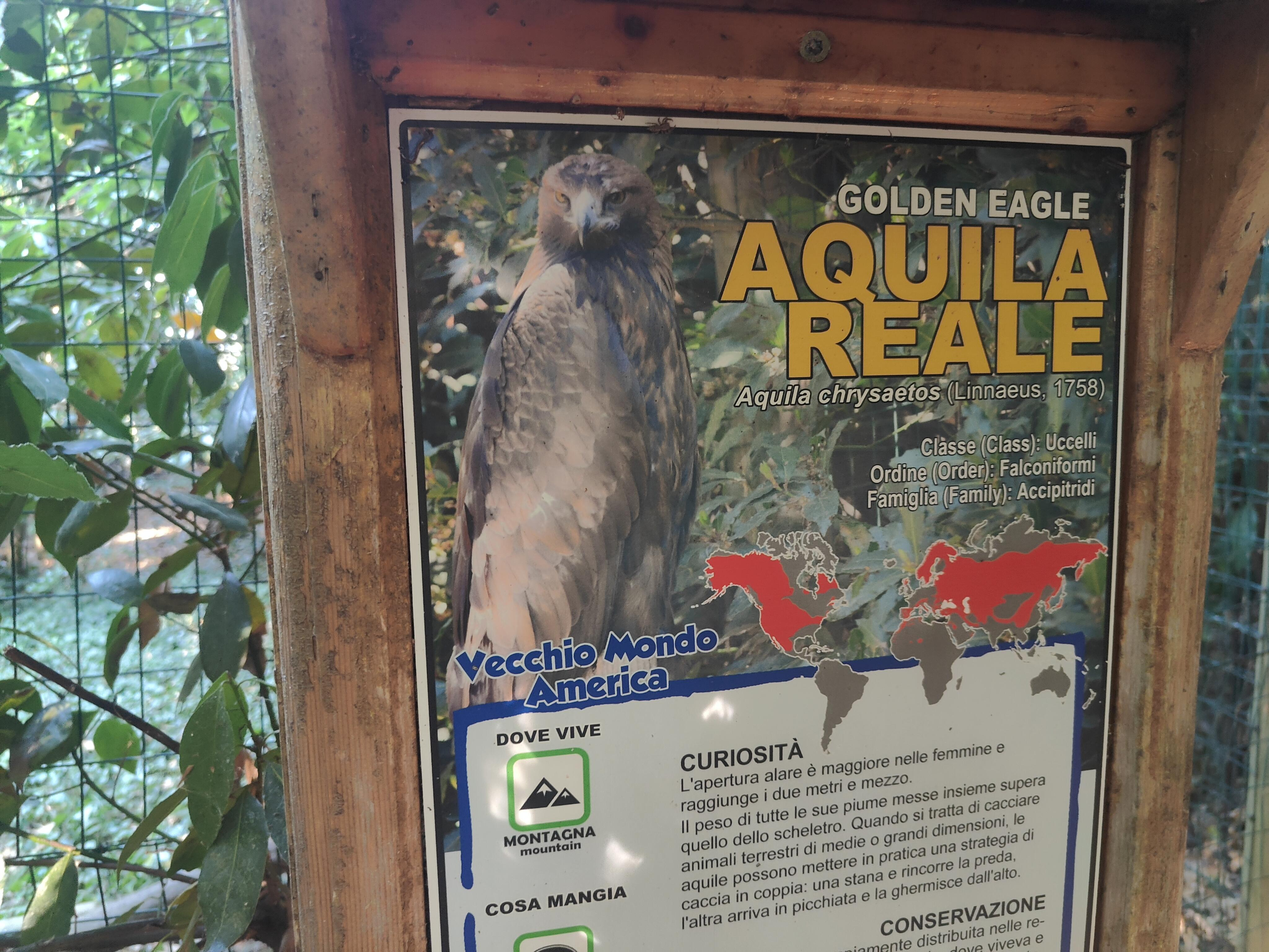apple: (446, 152, 702, 728)
